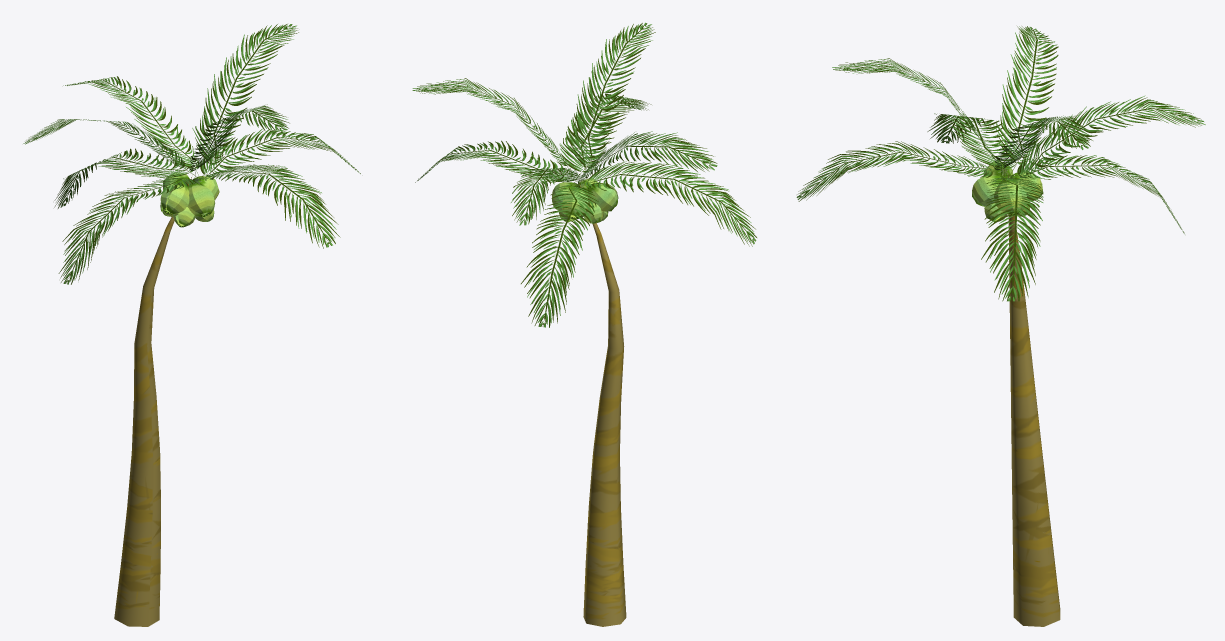
Rendered from Palm_Tree2.fbx.
3 renders of one model, left to right at view 1: azimuth 30°, elevation 25°; view 2: azimuth 150°, elevation 25°; view 3: azimuth 270°, elevation 25°, orthographic. The views are drawn at different scales.
Visible parts, largest first — view 1: palm_tree_2, pPlane7, pPlane2, pPlane3, pPlane8, pPlane1, pPlane4, pPlane6, pPlane5, coconut, coconut3; view 2: palm_tree_2, pPlane4, pPlane6, pPlane3, pPlane5, pPlane2, pPlane1, pPlane7, pPlane8, coconut3, coconut2; view 3: palm_tree_2, pPlane1, pPlane5, pPlane8, pPlane2, pPlane3, pPlane7, pPlane4, pPlane6, coconut1, coconut.
Part boxes in pixels (bbox=[...]): palm_tree_2: bbox=[114, 177, 191, 626]; pPlane7: bbox=[192, 24, 298, 174]; pPlane2: bbox=[199, 164, 340, 248]; pPlane3: bbox=[58, 177, 197, 284]; pPlane8: bbox=[63, 76, 199, 176]; pPlane1: bbox=[194, 129, 360, 178]; pPlane4: bbox=[54, 148, 196, 208]; pPlane6: bbox=[189, 104, 289, 176]; pPlane5: bbox=[23, 119, 184, 167]; coconut: bbox=[187, 183, 215, 216]; coconut3: bbox=[160, 181, 189, 214]; palm_tree_2: bbox=[579, 182, 626, 626]; pPlane4: bbox=[521, 182, 598, 327]; pPlane6: bbox=[566, 22, 655, 178]; pPlane3: bbox=[580, 161, 756, 246]; pPlane5: bbox=[577, 131, 717, 183]; pPlane2: bbox=[559, 92, 651, 178]; pPlane1: bbox=[415, 140, 580, 183]; pPlane7: bbox=[412, 78, 567, 166]; pPlane8: bbox=[511, 168, 585, 225]; coconut3: bbox=[587, 183, 618, 211]; coconut2: bbox=[561, 188, 589, 219]; palm_tree_2: bbox=[1008, 174, 1060, 626]; pPlane1: bbox=[981, 176, 1043, 301]; pPlane5: bbox=[993, 26, 1058, 176]; pPlane8: bbox=[1015, 95, 1205, 178]; pPlane2: bbox=[796, 141, 1003, 201]; pPlane3: bbox=[927, 113, 1017, 175]; pPlane7: bbox=[993, 115, 1092, 174]; pPlane4: bbox=[1004, 155, 1184, 233]; pPlane6: bbox=[832, 58, 995, 159]; coconut1: bbox=[994, 179, 1027, 215]; coconut: bbox=[972, 174, 1004, 206].
Bounding box in the file's own units: 6.28 × 9.99 × 6.55.
